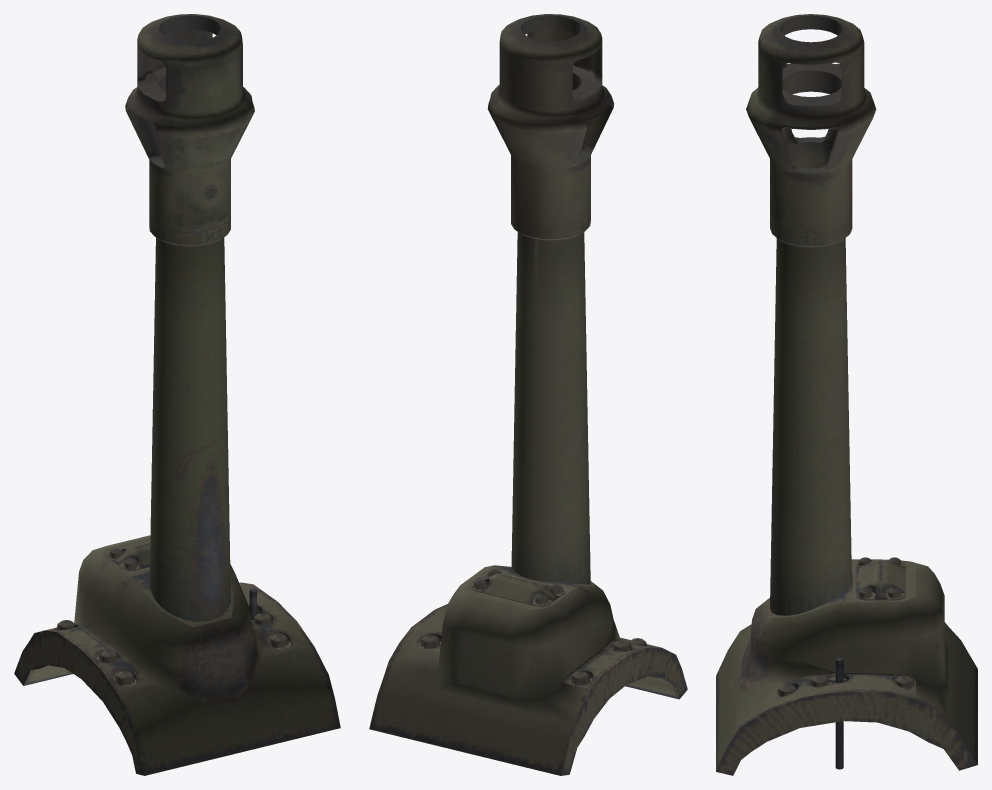
The model's file is Gun_05.glb.
The picture shows the model from 3 angles, left to right: view 1: azimuth 30°, elevation 25°; view 2: azimuth 150°, elevation 25°; view 3: azimuth 270°, elevation 25°; orthographic projection. The views are drawn at different scales.
Visible parts, largest first — view 1: set_0_group_0; view 2: set_0_group_0; view 3: set_0_group_0.
Boxes of the visible parts, x1=… form: set_0_group_0: x1=14, y1=14, x2=340, y2=775; set_0_group_0: x1=369, y1=14, x2=687, y2=775; set_0_group_0: x1=716, y1=14, x2=977, y2=775.
Bounding box in the file's own units: 0.6376 × 2.17 × 0.7339.
1 material, 1 textured.
